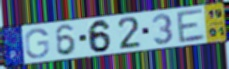2: (117, 16, 143, 51)
3: (151, 12, 174, 47)
6: (87, 19, 115, 54), (54, 23, 77, 58)
E: (175, 7, 208, 45)
G: (23, 27, 51, 59)
